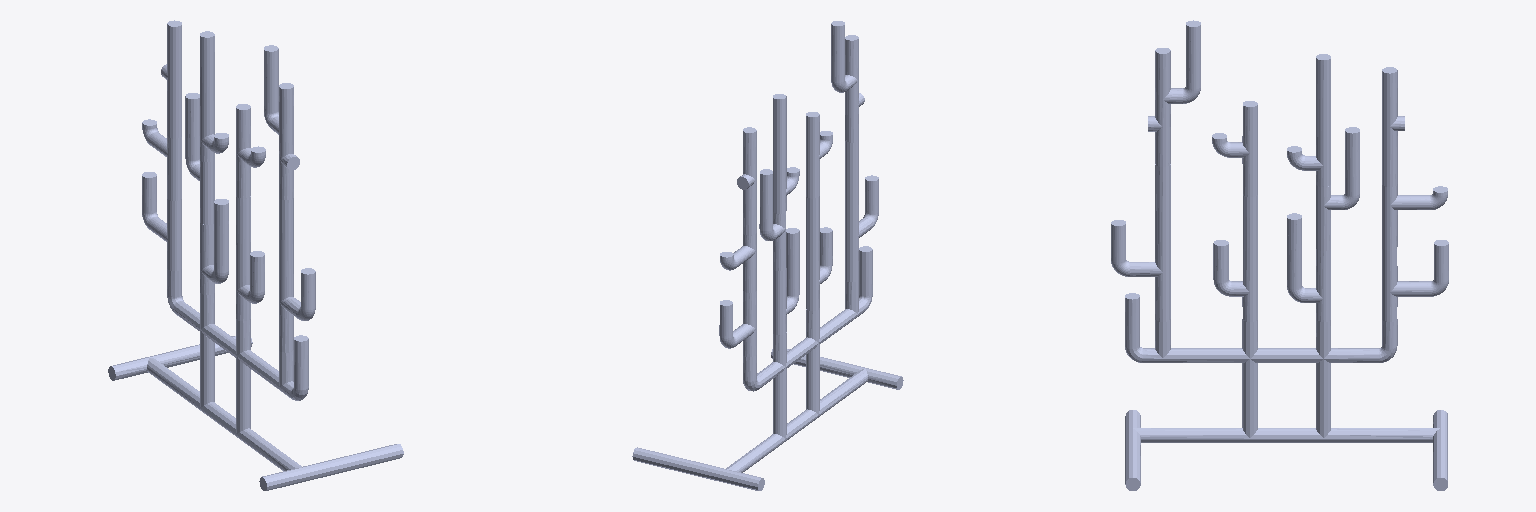
robot.urdf — coralColonyCut:
<?xml version="1.0" encoding="utf-8"?>
<!-- This URDF was automatically created by SolidWorks to URDF Exporter! Originally created by [author] ([email redacted]) 
     Commit Version: 1.6.0-1-g15f4949  Build Version: 1.6.7594.29634
     For more information, please see http://wiki.ros.org/sw_urdf_exporter -->
<robot
  name="coralColonyCut">
  <link
    name="base_link">
    <inertial>
      <origin
        xyz="0.0130130586882464 -0.0186321803409218 0.0693050957468901"
        rpy="0 0 0" />
      <mass
        value="0.598845649993383" />
      <inertia
        ixx="0.0153601360101017"
        ixy="-0.000145278344408233"
        ixz="0.000457315324787233"
        iyy="0.00354422180066577"
        iyz="0.00101559539434738"
        izz="0.0136920470434805" />
    </inertial>
    <visual>
      <origin
        xyz="0 0 0"
        rpy="0 0 0" />
      <geometry>
        <mesh
          filename="package://coralColonyCut/meshes/base_link.STL" />
      </geometry>
      <material
        name="">
        <color
          rgba="0.792156862745098 0.819607843137255 0.933333333333333 1" />
      </material>
    </visual>
    <collision>
      <origin
        xyz="0 0 0"
        rpy="0 0 0" />
      <geometry>
        <mesh
          filename="package://coralColonyCut/meshes/base_link.STL" />
      </geometry>
    </collision>
  </link>
  <link
    name="part4_Link">
    <inertial>
      <origin
        xyz="-4.99972084786395E-06 -0.00373338781968693 0.111744185643968"
        rpy="0 0 0" />
      <mass
        value="0.0969198039642249" />
      <inertia
        ixx="0.000418936512631073"
        ixy="3.93314049558749E-15"
        ixz="9.77786723366793E-13"
        iyy="0.000409215372129597"
        iyz="-1.32827962830476E-05"
        izz="1.52541238995031E-05" />
    </inertial>
    <visual>
      <origin
        xyz="0 0 0"
        rpy="0 0 0" />
      <geometry>
        <mesh
          filename="package://coralColonyCut/meshes/part4_Link.STL" />
      </geometry>
      <material
        name="">
        <color
          rgba="0.792156862745098 0.819607843137255 0.933333333333333 1" />
      </material>
    </visual>
    <collision>
      <origin
        xyz="0 0 0"
        rpy="0 0 0" />
      <geometry>
        <mesh
          filename="package://coralColonyCut/meshes/part4_Link.STL" />
      </geometry>
    </collision>
  </link>
  <joint
    name="part4_fixed"
    type="fixed">
    <origin
      xyz="0 -0.1705 0.18761"
      rpy="0 0 0" />
    <parent
      link="base_link" />
    <child
      link="part4_Link" />
    <axis
      xyz="0 0 0" />
  </joint>
  <link
    name="part3_Link">
    <inertial>
      <origin
        xyz="-4.99999999924231E-06 -0.0137318326946166 0.0312060406230509"
        rpy="0 0 0" />
      <mass
        value="0.0281184796926807" />
      <inertia
        ixx="1.50586211973433E-05"
        ixy="2.96895333527314E-21"
        ixz="-4.03756604518295E-20"
        iyy="1.48595644822487E-05"
        iyz="1.10323506414933E-06"
        izz="1.79369084656615E-06" />
    </inertial>
    <visual>
      <origin
        xyz="0 0 0"
        rpy="0 0 0" />
      <geometry>
        <mesh
          filename="package://coralColonyCut/meshes/part3_Link.STL" />
      </geometry>
      <material
        name="">
        <color
          rgba="0.792156862745098 0.819607843137255 0.933333333333333 1" />
      </material>
    </visual>
    <collision>
      <origin
        xyz="0 0 0"
        rpy="0 0 0" />
      <geometry>
        <mesh
          filename="package://coralColonyCut/meshes/part3_Link.STL" />
      </geometry>
    </collision>
  </link>
  <joint
    name="part3_fixed"
    type="fixed">
    <origin
      xyz="0 -0.046 0.07503"
      rpy="0 0 0" />
    <parent
      link="part4_Link" />
    <child
      link="part3_Link" />
    <axis
      xyz="0 0 0" />
  </joint>
  <link
    name="part2_Link">
    <inertial>
      <origin
        xyz="-4.96733700986508E-06 0.000714404088624304 0.085825376242205"
        rpy="0 0 0" />
      <mass
        value="0.0718248865077453" />
      <inertia
        ixx="0.000159918818849133"
        ixy="1.23633640608755E-10"
        ixz="1.31586058272146E-10"
        iyy="0.000157051391404197"
        iyz="-3.52643586705953E-06"
        izz="7.01384565994679E-06" />
    </inertial>
    <visual>
      <origin
        xyz="0 0 0"
        rpy="0 0 0" />
      <geometry>
        <mesh
          filename="package://coralColonyCut/meshes/part2_Link.STL" />
      </geometry>
      <material
        name="">
        <color
          rgba="0.792156862745098 0.819607843137255 0.933333333333333 1" />
      </material>
    </visual>
    <collision>
      <origin
        xyz="0 0 0"
        rpy="0 0 0" />
      <geometry>
        <mesh
          filename="package://coralColonyCut/meshes/part2_Link.STL" />
      </geometry>
    </collision>
  </link>
  <joint
    name="part2_fixed"
    type="fixed">
    <origin
      xyz="0 0 0.23504"
      rpy="0 0 0" />
    <parent
      link="part4_Link" />
    <child
      link="part2_Link" />
    <axis
      xyz="0 0 0" />
  </joint>
  <link
    name="part1_Link">
    <inertial>
      <origin
        xyz="5.00000000130265E-06 0.0141609387068788 0.0509283679788508"
        rpy="0 0 0" />
      <mass
        value="0.042246856850289" />
      <inertia
        ixx="5.00300336432798E-05"
        ixy="-2.17670381114558E-21"
        ixz="-1.45544543068663E-19"
        iyy="4.98158537587726E-05"
        iyz="-1.80651228539477E-06"
        izz="2.6100519450586E-06" />
    </inertial>
    <visual>
      <origin
        xyz="0 0 0"
        rpy="0 0 0" />
      <geometry>
        <mesh
          filename="package://coralColonyCut/meshes/part1_Link.STL" />
      </geometry>
      <material
        name="">
        <color
          rgba="0.792156862745098 0.819607843137255 0.933333333333333 1" />
      </material>
    </visual>
    <collision>
      <origin
        xyz="0 0 0"
        rpy="0 0 0" />
      <geometry>
        <mesh
          filename="package://coralColonyCut/meshes/part1_Link.STL" />
      </geometry>
    </collision>
  </link>
  <joint
    name="part1_fixed"
    type="fixed">
    <origin
      xyz="-1E-05 0.026995 0.10264"
      rpy="0 0 0" />
    <parent
      link="part2_Link" />
    <child
      link="part1_Link" />
    <axis
      xyz="0 0 0" />
  </joint>
  <link
    name="part6_Link">
    <inertial>
      <origin
        xyz="-4.99739226568875E-06 -0.0116670048403046 0.0867461608430799"
        rpy="0 0 0" />
      <mass
        value="0.101165128405053" />
      <inertia
        ixx="0.000265966771354361"
        ixy="5.9705969491741E-12"
        ixz="-5.67642508311449E-12"
        iyy="0.000235976628423259"
        iyz="-1.44975313261071E-05"
        izz="3.57638844616819E-05" />
    </inertial>
    <visual>
      <origin
        xyz="0 0 0"
        rpy="0 0 0" />
      <geometry>
        <mesh
          filename="package://coralColonyCut/meshes/part6_Link.STL" />
      </geometry>
      <material
        name="">
        <color
          rgba="0.792156862745098 0.819607843137255 0.933333333333333 1" />
      </material>
    </visual>
    <collision>
      <origin
        xyz="0 0 0"
        rpy="0 0 0" />
      <geometry>
        <mesh
          filename="package://coralColonyCut/meshes/part6_Link.STL" />
      </geometry>
    </collision>
  </link>
  <joint
    name="part6_fixed"
    type="fixed">
    <origin
      xyz="0 -0.0505 0.18761"
      rpy="0 0 0" />
    <parent
      link="base_link" />
    <child
      link="part6_Link" />
    <axis
      xyz="0 0 0" />
  </joint>
  <link
    name="part5_Link">
    <inertial>
      <origin
        xyz="-5.00290299813615E-06 -0.0079464562887241 0.0690184458847976"
        rpy="0 0 0" />
      <mass
        value="0.0656247018522205" />
      <inertia
        ixx="9.24962888545499E-05"
        ixy="7.30314273617971E-12"
        ixz="-6.50699604056355E-12"
        iyy="7.87691048008746E-05"
        iyz="1.86690252642677E-06"
        izz="1.74853805038705E-05" />
    </inertial>
    <visual>
      <origin
        xyz="0 0 0"
        rpy="0 0 0" />
      <geometry>
        <mesh
          filename="package://coralColonyCut/meshes/part5_Link.STL" />
      </geometry>
      <material
        name="">
        <color
          rgba="0.792156862745098 0.819607843137255 0.933333333333333 1" />
      </material>
    </visual>
    <collision>
      <origin
        xyz="0 0 0"
        rpy="0 0 0" />
      <geometry>
        <mesh
          filename="package://coralColonyCut/meshes/part5_Link.STL" />
      </geometry>
    </collision>
  </link>
  <joint
    name="part5_fixed"
    type="fixed">
    <origin
      xyz="0 0 0.18939"
      rpy="0 0 0" />
    <parent
      link="part6_Link" />
    <child
      link="part5_Link" />
    <axis
      xyz="0 0 0" />
  </joint>
  <link
    name="part9_Link">
    <inertial>
      <origin
        xyz="-4.99951377741232E-06 -0.0210328938545636 0.0716163092837544"
        rpy="0 0 0" />
      <mass
        value="0.0899994155753666" />
      <inertia
        ixx="0.000171413796503586"
        ixy="5.26452381358543E-12"
        ixz="-3.93136257350004E-12"
        iyy="0.000138961072178149"
        iyz="3.31895268319923E-05"
        izz="3.75932427685874E-05" />
    </inertial>
    <visual>
      <origin
        xyz="0 0 0"
        rpy="0 0 0" />
      <geometry>
        <mesh
          filename="package://coralColonyCut/meshes/part9_Link.STL" />
      </geometry>
      <material
        name="">
        <color
          rgba="0.792156862745098 0.819607843137255 0.933333333333333 1" />
      </material>
    </visual>
    <collision>
      <origin
        xyz="0 0 0"
        rpy="0 0 0" />
      <geometry>
        <mesh
          filename="package://coralColonyCut/meshes/part9_Link.STL" />
      </geometry>
    </collision>
  </link>
  <joint
    name="part9_fixed"
    type="fixed">
    <origin
      xyz="0 0.0505 0.18761"
      rpy="0 0 0" />
    <parent
      link="base_link" />
    <child
      link="part9_Link" />
    <axis
      xyz="0 0 0" />
  </joint>
  <link
    name="part8_Link">
    <inertial>
      <origin
        xyz="-5.00804651945172E-06 0.0212719211947087 0.0858724480722534"
        rpy="0 0 0" />
      <mass
        value="0.0822877579784405" />
      <inertia
        ixx="0.000203729364746164"
        ixy="1.02024722056659E-11"
        ixz="7.60052490916797E-12"
        iyy="0.000174398359173244"
        iyz="-5.47344886357249E-05"
        izz="3.40341914685005E-05" />
    </inertial>
    <visual>
      <origin
        xyz="0 0 0"
        rpy="0 0 0" />
      <geometry>
        <mesh
          filename="package://coralColonyCut/meshes/part8_Link.STL" />
      </geometry>
      <material
        name="">
        <color
          rgba="0.792156862745098 0.819607843137255 0.933333333333333 1" />
      </material>
    </visual>
    <collision>
      <origin
        xyz="0 0 0"
        rpy="0 0 0" />
      <geometry>
        <mesh
          filename="package://coralColonyCut/meshes/part8_Link.STL" />
      </geometry>
    </collision>
  </link>
  <joint
    name="part8_fixed"
    type="fixed">
    <origin
      xyz="0 0 0.10805"
      rpy="0 0 0" />
    <parent
      link="part9_Link" />
    <child
      link="part8_Link" />
    <axis
      xyz="0 0 0" />
  </joint>
  <link
    name="part7_Link">
    <inertial>
      <origin
        xyz="-5.00014839560417E-06 -0.00568004945324685 0.0847901048387558"
        rpy="0 0 0" />
      <mass
        value="0.0848393865921651" />
      <inertia
        ixx="0.000276018649946417"
        ixy="4.46702514056546E-12"
        ixz="-3.31697762197871E-12"
        iyy="0.000262931316072701"
        iyz="-2.26872972208152E-05"
        izz="1.79352200842162E-05" />
    </inertial>
    <visual>
      <origin
        xyz="0 0 0"
        rpy="0 0 0" />
      <geometry>
        <mesh
          filename="package://coralColonyCut/meshes/part7_Link.STL" />
      </geometry>
      <material
        name="">
        <color
          rgba="0.792156862745098 0.819607843137255 0.933333333333333 1" />
      </material>
    </visual>
    <collision>
      <origin
        xyz="0 0 0"
        rpy="0 0 0" />
      <geometry>
        <mesh
          filename="package://coralColonyCut/meshes/part7_Link.STL" />
      </geometry>
    </collision>
  </link>
  <joint
    name="part7_fixed"
    type="fixed">
    <origin
      xyz="0 0 0.09641"
      rpy="0 0 0" />
    <parent
      link="part8_Link" />
    <child
      link="part7_Link" />
    <axis
      xyz="0 0 0" />
  </joint>
  <link
    name="part12_Link">
    <inertial>
      <origin
        xyz="-5.00017328278444E-06 0.029983034766751 0.0596298043688601"
        rpy="0 0 0" />
      <mass
        value="0.0832292688398839" />
      <inertia
        ixx="0.000148257035746927"
        ixy="-1.1295528601544E-12"
        ixz="-1.07390166420943E-12"
        iyy="6.65126055493692E-05"
        iyz="-2.52385685302601E-05"
        izz="8.65009921068034E-05" />
    </inertial>
    <visual>
      <origin
        xyz="0 0 0"
        rpy="0 0 0" />
      <geometry>
        <mesh
          filename="package://coralColonyCut/meshes/part12_Link.STL" />
      </geometry>
      <material
        name="">
        <color
          rgba="0.792156862745098 0.819607843137255 0.933333333333333 1" />
      </material>
    </visual>
    <collision>
      <origin
        xyz="0 0 0"
        rpy="0 0 0" />
      <geometry>
        <mesh
          filename="package://coralColonyCut/meshes/part12_Link.STL" />
      </geometry>
    </collision>
  </link>
  <joint
    name="part12_fixed"
    type="fixed">
    <origin
      xyz="0 0.1415 0.18761"
      rpy="0 0 0" />
    <parent
      link="base_link" />
    <child
      link="part12_Link" />
    <axis
      xyz="0 0 0" />
  </joint>
  <link
    name="part11_Link">
    <inertial>
      <origin
        xyz="-5.00093754873549E-06 0.0197107914509148 0.0579271775166629"
        rpy="0 0 0" />
      <mass
        value="0.060908281826025" />
      <inertia
        ixx="7.77608419403032E-05"
        ixy="-2.06257287392088E-12"
        ixz="-2.05094283166934E-12"
        iyy="3.71220612066984E-05"
        iyz="-1.6744169914741E-05"
        izz="4.41294919857776E-05" />
    </inertial>
    <visual>
      <origin
        xyz="0 0 0"
        rpy="0 0 0" />
      <geometry>
        <mesh
          filename="package://coralColonyCut/meshes/part11_Link.STL" />
      </geometry>
      <material
        name="">
        <color
          rgba="0.792156862745098 0.819607843137255 0.933333333333333 1" />
      </material>
    </visual>
    <collision>
      <origin
        xyz="0 0 0"
        rpy="0 0 0" />
      <geometry>
        <mesh
          filename="package://coralColonyCut/meshes/part11_Link.STL" />
      </geometry>
    </collision>
  </link>
  <joint
    name="part11_fixed"
    type="fixed">
    <origin
      xyz="0 0 0.10805"
      rpy="0 0 0" />
    <parent
      link="part12_Link" />
    <child
      link="part11_Link" />
    <axis
      xyz="0 0 0" />
  </joint>
  <link
    name="part10_Link">
    <inertial>
      <origin
        xyz="-4.9873202587897E-06 0.000964442085692435 0.0866316053893982"
        rpy="0 0 0" />
      <mass
        value="0.0657537771424212" />
      <inertia
        ixx="0.000155519608221516"
        ixy="9.37129552009325E-11"
        ixz="1.63592268600471E-11"
        iyy="0.000154717292347364"
        iyz="-3.13484867225667E-07"
        izz="4.56780286974508E-06" />
    </inertial>
    <visual>
      <origin
        xyz="0 0 0"
        rpy="0 0 0" />
      <geometry>
        <mesh
          filename="package://coralColonyCut/meshes/part10_Link.STL" />
      </geometry>
      <material
        name="">
        <color
          rgba="0.792156862745098 0.819607843137255 0.933333333333333 1" />
      </material>
    </visual>
    <collision>
      <origin
        xyz="0 0 0"
        rpy="0 0 0" />
      <geometry>
        <mesh
          filename="package://coralColonyCut/meshes/part10_Link.STL" />
      </geometry>
    </collision>
  </link>
  <joint
    name="part10_fixed"
    type="fixed">
    <origin
      xyz="0 0 0.09641"
      rpy="0 0 0" />
    <parent
      link="part11_Link" />
    <child
      link="part10_Link" />
    <axis
      xyz="0 0 0" />
  </joint>
  <gazebo>
    <static>true</static>
  </gazebo>

   <gazebo reference="base_link">
    <material>Gazebo/CoralPink</material>
  </gazebo>

   <gazebo reference="part4_Link">
    <material>Gazebo/CoralPink</material>
  </gazebo>

  <gazebo reference="part3_Link">
    <material>Gazebo/CoralPink</material>
  </gazebo>

  <gazebo reference="part2_Link">
    <material>Gazebo/White</material>
  </gazebo>

  <gazebo reference="part1_Link">
    <material>Gazebo/White</material>
  </gazebo>

  <gazebo reference="part6_Link">
    <material>Gazebo/CoralPink</material>
  </gazebo>
  
  <gazebo reference="part5_Link">
    <material>Gazebo/CoralPink</material>
  </gazebo>

  <gazebo reference="part9_Link">
    <material>Gazebo/CoralPink</material>
  </gazebo>
  
  <gazebo reference="part8_Link">
    <material>Gazebo/White</material>
  </gazebo>
  
  <gazebo reference="part7_Link">
    <material>Gazebo/White</material>
  </gazebo>
  
  <gazebo reference="part12_Link">
    <material>Gazebo/CoralPink</material>
  </gazebo>
  
  <gazebo reference="part11_Link">
    <material>Gazebo/CoralPink</material>
  </gazebo>
  
  <gazebo reference="part10_Link">
    <material>Gazebo/CoralPink</material>
  </gazebo>
  
</robot>

--- Facts derived from the render (not from the file) ---
3 views of the same robot in one strip: view 1: azimuth 30°, elevation 25°; view 2: azimuth 150°, elevation 25°; view 3: azimuth 270°, elevation 25° (orthographic).
Model coralColonyCut with 13 links and 12 joints (12 fixed), rooted at base_link, posed every joint at zero.
Links seen in each view (by area): view 1: base_link, part6_Link, part4_Link, part9_Link, part7_Link, part8_Link, part12_Link, part2_Link, part10_Link, part5_Link, part11_Link, part1_Link (+1 smaller); view 2: base_link, part6_Link, part4_Link, part9_Link, part7_Link, part12_Link, part8_Link, part10_Link, part2_Link, part5_Link, part11_Link, part1_Link (+1 smaller); view 3: base_link, part6_Link, part4_Link, part9_Link, part7_Link, part12_Link, part8_Link, part2_Link, part10_Link, part5_Link, part11_Link, part1_Link (+1 smaller).
Link boxes in pixels (x1=…): base_link: x1=108, y1=269, x2=403, y2=490; part6_Link: x1=236, y1=196, x2=264, y2=320; part4_Link: x1=279, y1=198, x2=300, y2=352; part9_Link: x1=200, y1=199, x2=228, y2=294; part7_Link: x1=200, y1=31, x2=228, y2=161; part8_Link: x1=185, y1=93, x2=214, y2=224; part12_Link: x1=142, y1=172, x2=181, y2=270; part2_Link: x1=270, y1=83, x2=299, y2=199; part10_Link: x1=161, y1=20, x2=181, y2=138; part5_Link: x1=236, y1=104, x2=265, y2=198; part11_Link: x1=142, y1=119, x2=181, y2=200; part1_Link: x1=264, y1=45, x2=278, y2=126; base_link: x1=632, y1=246, x2=903, y2=490; part6_Link: x1=806, y1=196, x2=832, y2=310; part4_Link: x1=845, y1=141, x2=872, y2=281; part9_Link: x1=773, y1=228, x2=799, y2=334; part7_Link: x1=773, y1=94, x2=799, y2=213; part12_Link: x1=719, y1=291, x2=756, y2=356; part8_Link: x1=759, y1=169, x2=785, y2=270; part10_Link: x1=737, y1=127, x2=756, y2=235; part2_Link: x1=845, y1=35, x2=864, y2=142; part5_Link: x1=806, y1=112, x2=832, y2=198; part11_Link: x1=720, y1=233, x2=756, y2=292; part1_Link: x1=831, y1=21, x2=848, y2=92; base_link: x1=1125, y1=293, x2=1447, y2=490; part6_Link: x1=1213, y1=195, x2=1257, y2=321; part4_Link: x1=1130, y1=164, x2=1170, y2=321; part9_Link: x1=1287, y1=213, x2=1330, y2=321; part7_Link: x1=1287, y1=54, x2=1330, y2=186; part12_Link: x1=1382, y1=240, x2=1448, y2=321; part8_Link: x1=1316, y1=127, x2=1359, y2=250; part2_Link: x1=1148, y1=48, x2=1182, y2=166; part10_Link: x1=1382, y1=67, x2=1404, y2=186; part5_Link: x1=1212, y1=101, x2=1257, y2=196; part11_Link: x1=1382, y1=184, x2=1447, y2=250; part1_Link: x1=1183, y1=20, x2=1200, y2=103.
Size in the robot's own frame: 0.221 by 0.4652 by 0.6353 metres.
13 mesh visuals loaded from 13 distinct referenced files (13 binary STL).